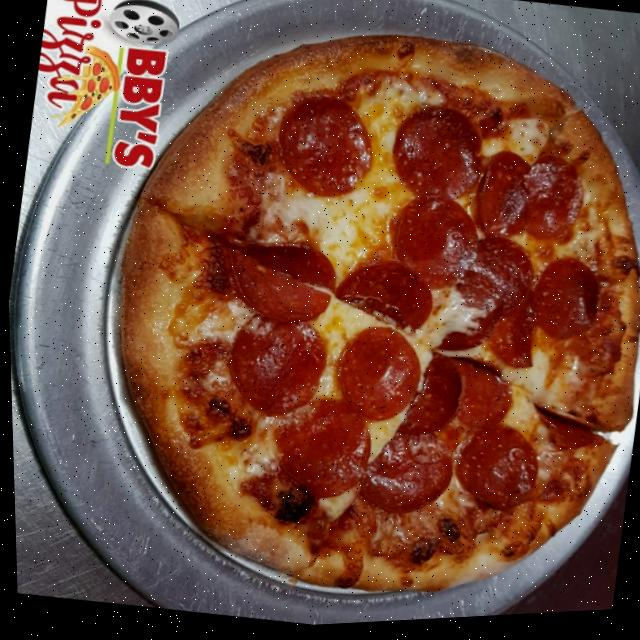pepperoni: (427, 231, 554, 380), (212, 310, 339, 433), (259, 391, 382, 513), (211, 232, 351, 338), (267, 89, 385, 212), (377, 189, 491, 310), (350, 420, 463, 535), (381, 102, 495, 215), (326, 322, 426, 434), (444, 422, 550, 524), (330, 249, 441, 342), (521, 258, 612, 359), (509, 154, 596, 255), (391, 349, 476, 450), (465, 149, 545, 250), (433, 357, 520, 448)
pizza: (63, 0, 640, 637)
